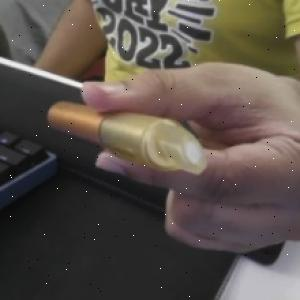Golden-E-Ciggirate: (45, 98, 209, 176)
